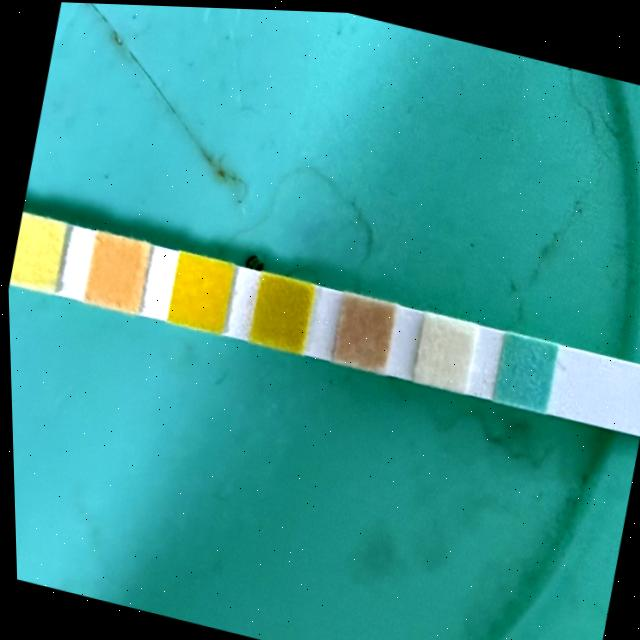Bilirubin: (409, 310, 473, 387)
Blood: (166, 251, 233, 330)
Glucose: (491, 329, 555, 405)
Ketone: (330, 290, 393, 369)
Protein: (6, 212, 64, 290)
SpGravity: (246, 269, 313, 349)
pH: (83, 229, 149, 310)
